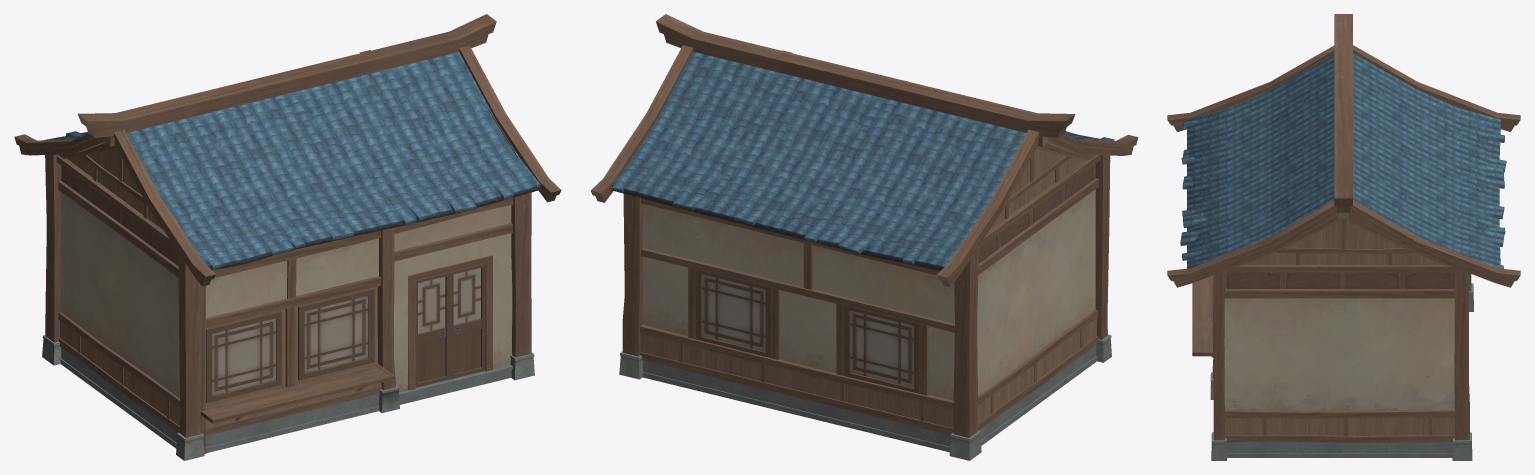
The model's file is Homeworld_Exterior_Ly_Build_House_15_Lod0.fbx.
3 renders of one model, left to right at view 1: azimuth 30°, elevation 25°; view 2: azimuth 150°, elevation 25°; view 3: azimuth 270°, elevation 25°, orthographic. The views are drawn at different scales.
Visible parts, largest first — view 1: Area_Ly_Build_LYG_CHY_House_02_Lod0; view 2: Area_Ly_Build_LYG_CHY_House_02_Lod0; view 3: Area_Ly_Build_LYG_CHY_House_02_Lod0.
Part boxes in pixels (bbox=[...]): Area_Ly_Build_LYG_CHY_House_02_Lod0: bbox=[14, 14, 561, 460]; Area_Ly_Build_LYG_CHY_House_02_Lod0: bbox=[590, 14, 1138, 460]; Area_Ly_Build_LYG_CHY_House_02_Lod0: bbox=[1167, 14, 1520, 460].
Size of what is drawn, in the model's own units: 11.04 by 7.7 by 8.95.
